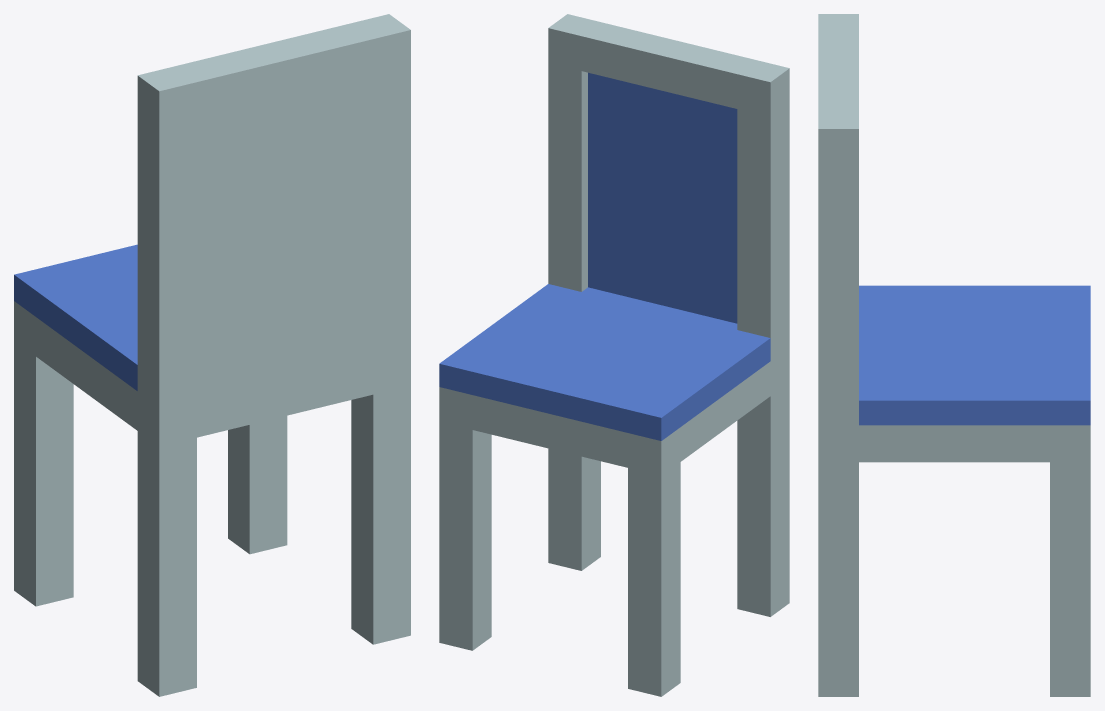
The model's file is chairModernCushion.obj.
3 renders of one model, left to right at view 1: azimuth 30°, elevation 25°; view 2: azimuth 150°, elevation 25°; view 3: azimuth 270°, elevation 25°, orthographic. The views are drawn at different scales.
Parts seen in each view (by area): view 1: chairModernCushion; view 2: chairModernCushion; view 3: chairModernCushion.
Boxes of the visible parts, left/top/right/bottom form: chairModernCushion: left=14, top=14, right=410, bottom=696; chairModernCushion: left=439, top=14, right=789, bottom=696; chairModernCushion: left=818, top=14, right=1090, bottom=696.
Size of the model in its own units: 0.2 by 0.46 by 0.2.
